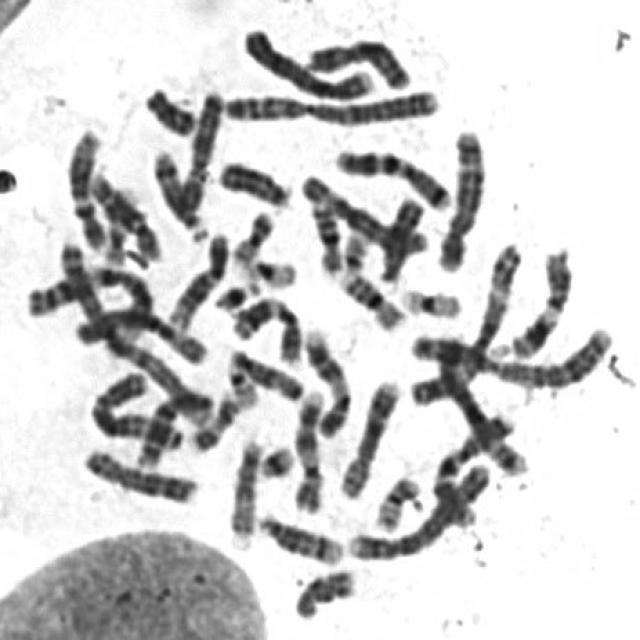A1: (35, 239, 214, 432), (22, 254, 159, 348)
A2: (404, 314, 620, 394), (217, 77, 446, 127)
A3: (404, 230, 530, 411), (84, 362, 187, 451)
B4: (340, 454, 494, 564), (235, 16, 380, 104)
B5: (415, 319, 532, 478), (431, 118, 491, 273)
C10: (81, 163, 166, 264), (128, 379, 218, 471)
C11: (503, 236, 578, 363), (222, 286, 307, 367)
C12: (160, 222, 234, 331), (59, 118, 112, 252)
C6: (294, 165, 432, 256), (68, 294, 214, 368)
C7: (426, 402, 520, 528), (328, 137, 456, 211)
C8: (332, 369, 405, 500), (75, 437, 203, 506)
C9: (297, 318, 355, 439), (285, 379, 329, 516)
D13: (372, 188, 428, 284), (210, 149, 296, 210)
D14: (144, 138, 210, 240), (249, 503, 347, 567)
D15: (220, 338, 310, 404), (222, 428, 266, 550)
E16: (332, 262, 411, 332), (303, 188, 347, 277)
E17: (184, 384, 246, 454), (96, 179, 140, 267)
E18: (288, 558, 362, 621), (137, 76, 200, 137)
F19: (394, 277, 467, 321), (235, 248, 301, 290)
F20: (366, 466, 426, 534), (226, 200, 280, 267)
G21: (206, 270, 264, 313), (250, 433, 299, 481)
G22: (220, 342, 262, 410), (336, 222, 373, 276)
X: (299, 26, 416, 92), (173, 79, 228, 214)
